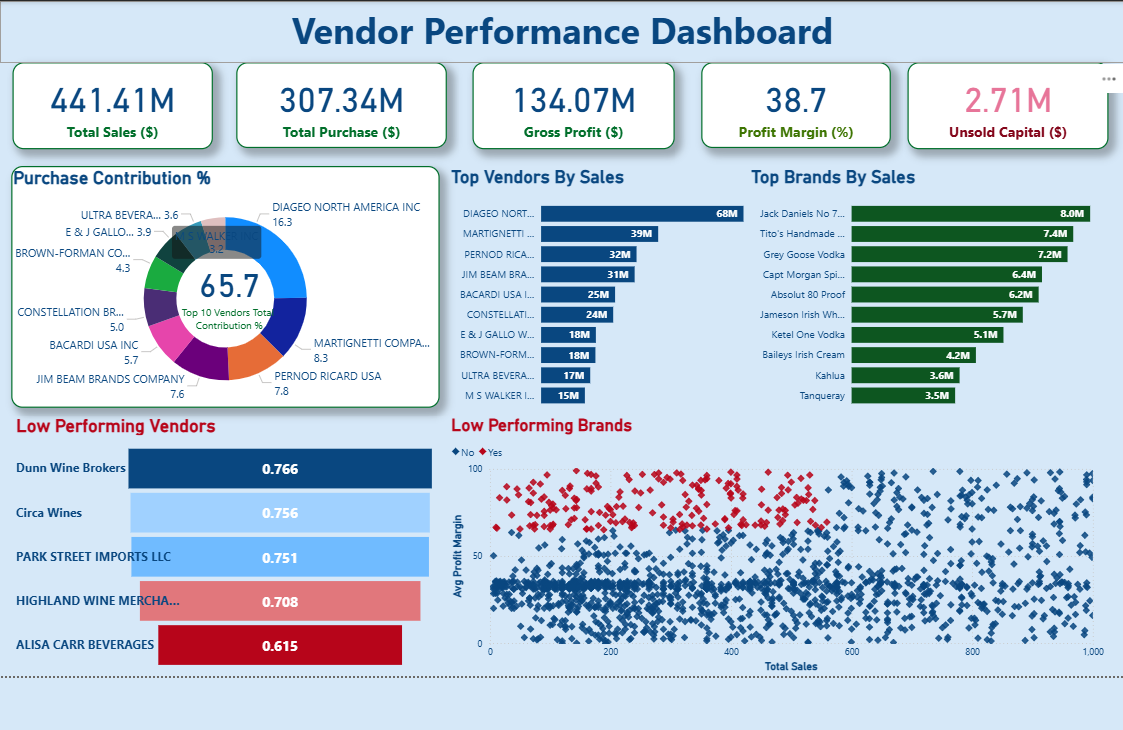

The page's visual inventory and layout, read from the dashboard file:
{"tool":"powerbi","page":{"name":"Page 1","canvas":[1500,900],"ordinal":0},"visuals":[{"type":"card","fields":{"Values":["Sum(vendor_sales_summary.TotalPurchaseDollars)"]},"box":[315.8,82.4,280.9,114.6],"z":0},{"type":"card","fields":{"Values":["Sum(vendor_sales_summary.TotalSalesDollars)"]},"box":[16.8,81,266.9,116],"z":1000},{"type":"card","fields":{"Values":["Sum(vendor_sales_summary.GrossProfit)"]},"box":[630.2,81,269.7,116],"z":2000},{"type":"card","fields":{"Values":["Sum(vendor_sales_summary.ProfitMargin)"]},"box":[934.8,82.4,252.9,114.6],"z":3000},{"type":"card","fields":{"Values":["Sum(vendor_sales_summary.UnsoldCapital)"]},"box":[1210.1,81,268.3,116],"z":4000},{"type":"textbox","box":[0,0,1500,83],"z":5000},{"type":"donutChart","title":"Purchase Contribution % ","fields":{"Category":["PurchaseContribution.VendorName"],"Y":["Sum(PurchaseContribution.PurchaseContribution%)"]},"box":[14.5,219.4,571,322.6],"z":6000},{"type":"card","fields":{"Values":["Sum(PurchaseContribution.PurchaseContribution%)"]},"box":[211.8,266.7,188.2,233.3],"z":7000},{"type":"barChart","title":"Top Vendors By Sales","fields":{"Category":["vendor_sales_summary.VendorName"],"Y":["Sum(vendor_sales_summary.TotalSalesDollars)"]},"box":[597.3,219.2,447.9,332.9],"z":8000},{"type":"barChart","title":"Top Brands By Sales","fields":{"Category":["vendor_sales_summary.Description"],"Y":["Sum(vendor_sales_summary.TotalSalesDollars)"]},"box":[995.9,219.2,504.1,332.9],"z":9000},{"type":"funnel","title":"Low Performing Vendors","fields":{"Category":["LowTurnoverVendor.VendorName"],"Y":["Avg(LowTurnoverVendor.AvgStockTurnOver)"]},"box":[16.1,551.6,569.4,348.4],"z":10000},{"type":"scatterChart","title":"Low Performing Brands","fields":{"X":["Sum(BrandPerformance.TotalSales)"],"Y":["Sum(BrandPerformance.AvgProfitMargin)"],"Series":["BrandPerformance.TargetBrand"],"Category":["BrandPerformance.Description"]},"box":[596.8,551.6,880.6,348.4],"z":11000}]}

Visuals, with their boxes on the page's 1500x900 design canvas (x1, y1, x2, y2). These are canvas units, not pixel positions in the 1123x730 screenshot, which may show the page scaled, cropped or inside an application window:
card - Sum(vendor_sales_summary.TotalPurchaseDollars): box=[316, 82, 597, 197]
card - Sum(vendor_sales_summary.TotalSalesDollars): box=[17, 81, 284, 197]
card - Sum(vendor_sales_summary.GrossProfit): box=[630, 81, 900, 197]
card - Sum(vendor_sales_summary.ProfitMargin): box=[935, 82, 1188, 197]
card - Sum(vendor_sales_summary.UnsoldCapital): box=[1210, 81, 1478, 197]
textbox: box=[0, 0, 1500, 83]
"Purchase Contribution % " donutChart: box=[14, 219, 586, 542]
card - Sum(PurchaseContribution.PurchaseContribution%): box=[212, 267, 400, 500]
"Top Vendors By Sales" barChart: box=[597, 219, 1045, 552]
"Top Brands By Sales" barChart: box=[996, 219, 1500, 552]
"Low Performing Vendors" funnel: box=[16, 552, 586, 900]
"Low Performing Brands" scatterChart: box=[597, 552, 1477, 900]
